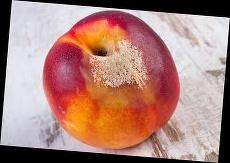rotten apple: (40, 11, 198, 151)
